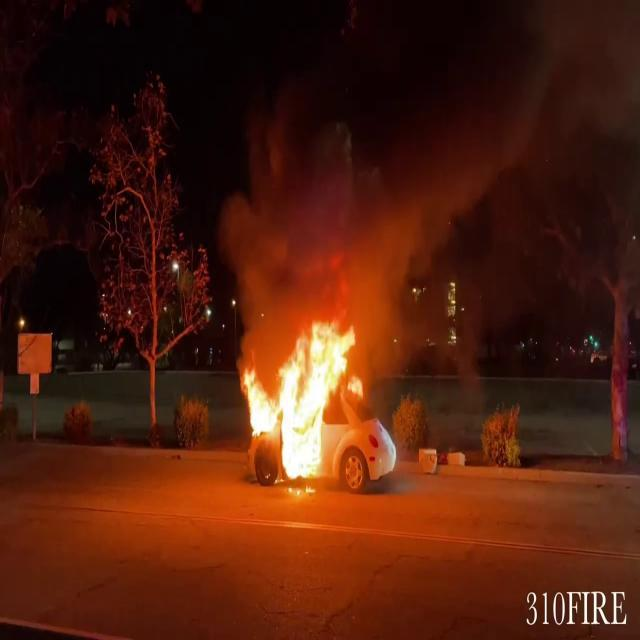Fire: (238, 314, 362, 488)
Smoke: (219, 67, 516, 332)
